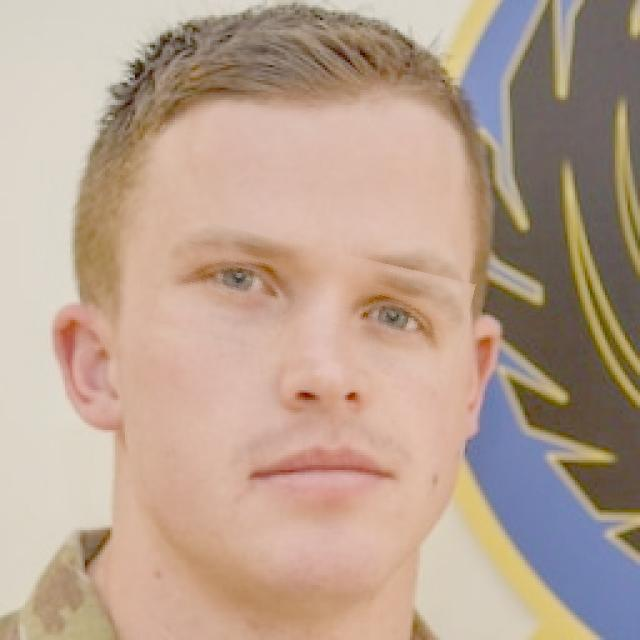no-glasses: (157, 232, 472, 373)
